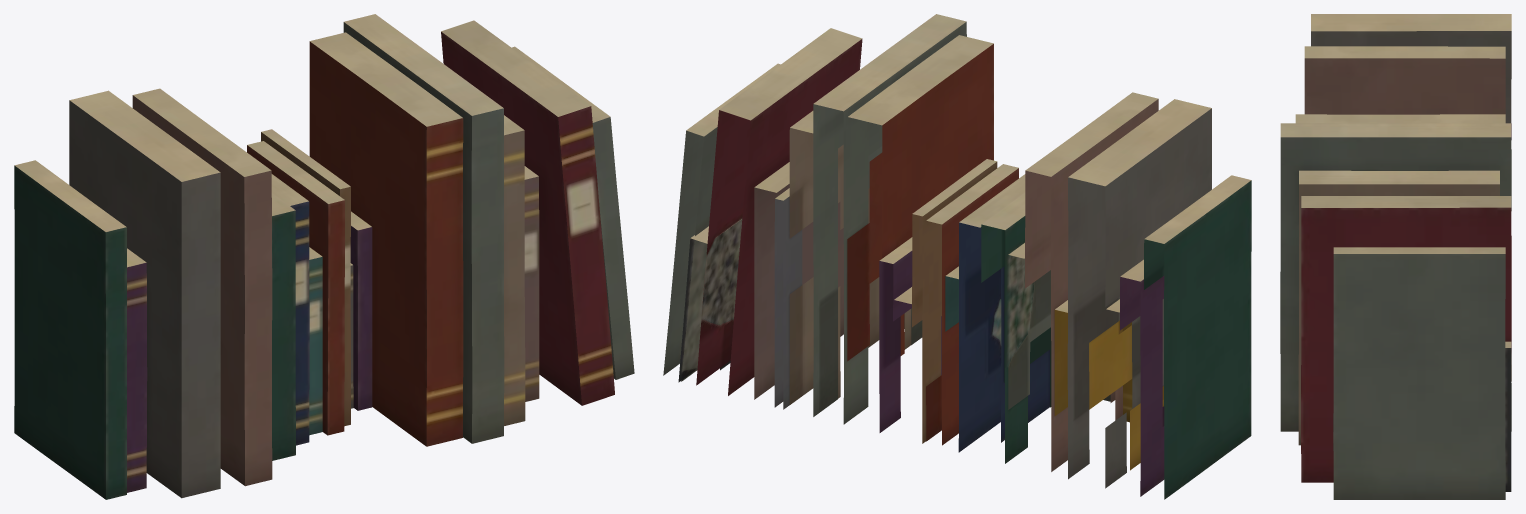
File: book-row-60.glb
The picture shows the model from 3 angles, left to right: view 1: azimuth 30°, elevation 25°; view 2: azimuth 150°, elevation 25°; view 3: azimuth 270°, elevation 25°; orthographic projection. The views are drawn at different scales.
Visible parts, largest first — view 1: row_right, row_left, row_middle; view 2: row_right, row_left, row_middle; view 3: row_right, row_left.
Boxes of the visible parts, x1=… form: row_right: x1=309, y1=14, x2=634, y2=446; row_left: x1=14, y1=88, x2=272, y2=499; row_middle: x1=247, y1=129, x2=372, y2=460; row_right: x1=663, y1=14, x2=993, y2=424; row_left: x1=1008, y1=92, x2=1251, y2=499; row_middle: x1=879, y1=159, x2=1051, y2=463; row_right: x1=1280, y1=114, x2=1511, y2=499; row_left: x1=1304, y1=14, x2=1511, y2=139.
Bounding box in the file's own units: 0.575 × 0.3434 × 0.2447.
1 material, 1 textured.
